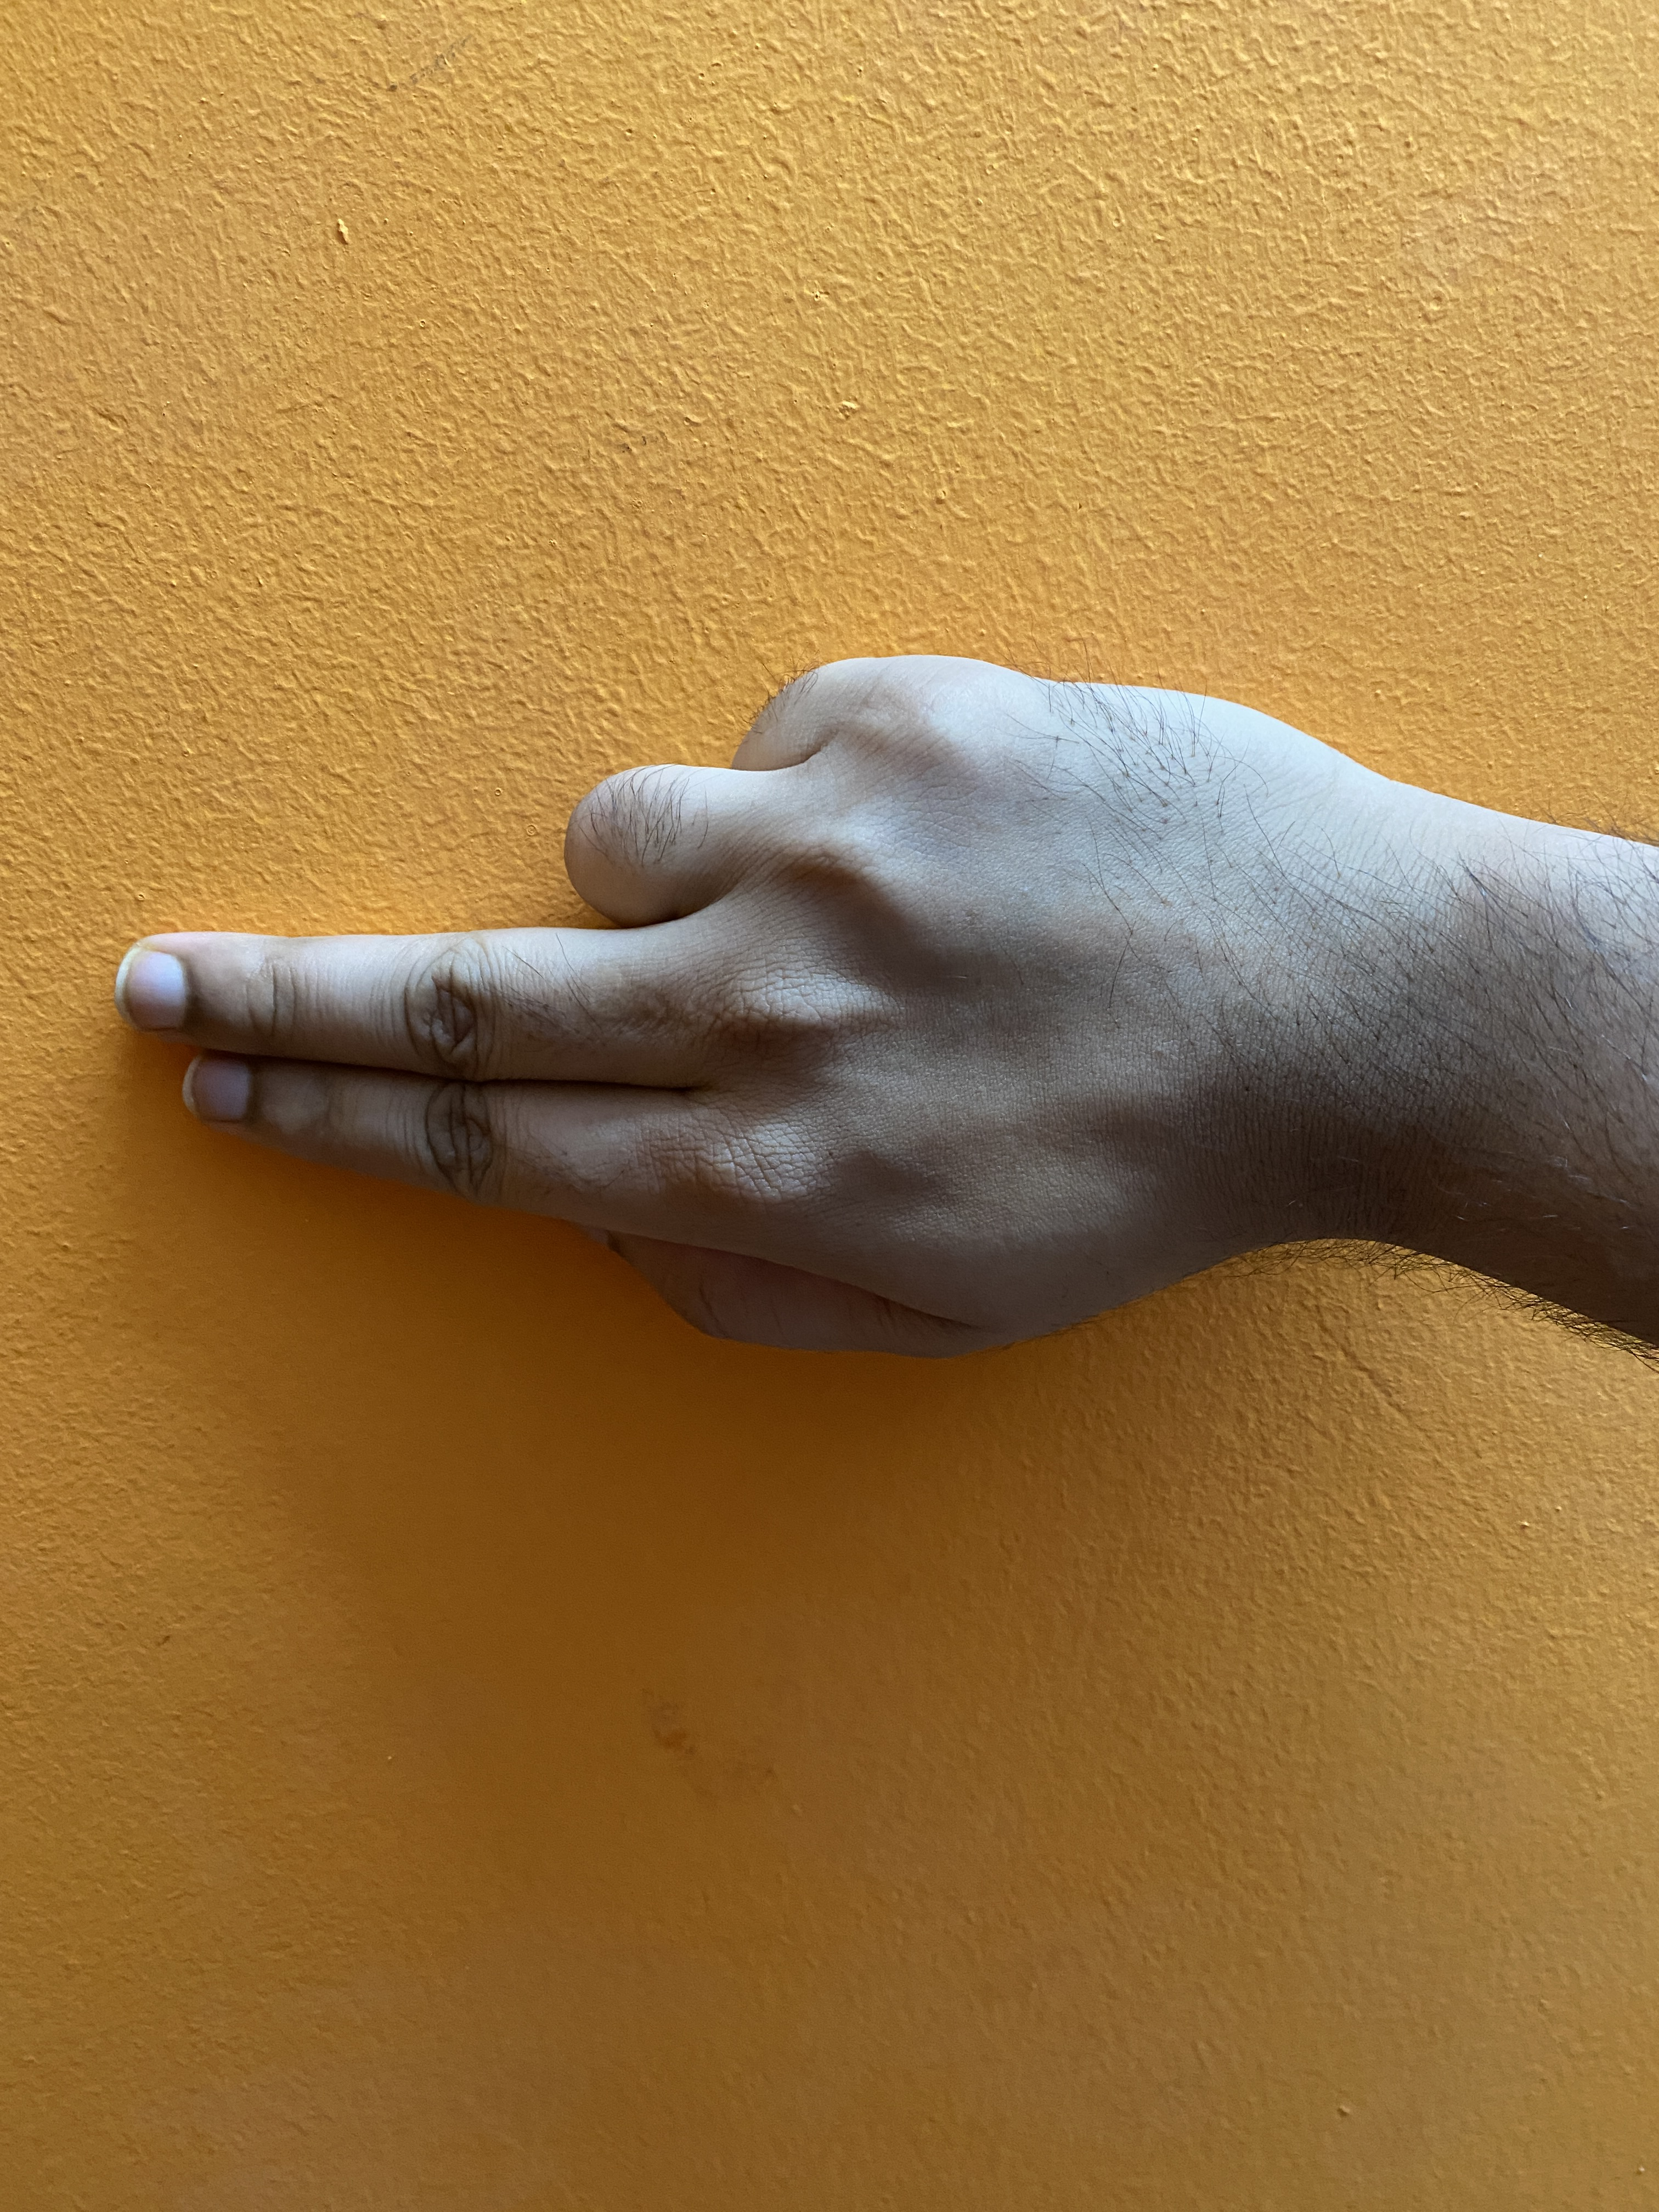right: (80, 481, 1659, 1583)
